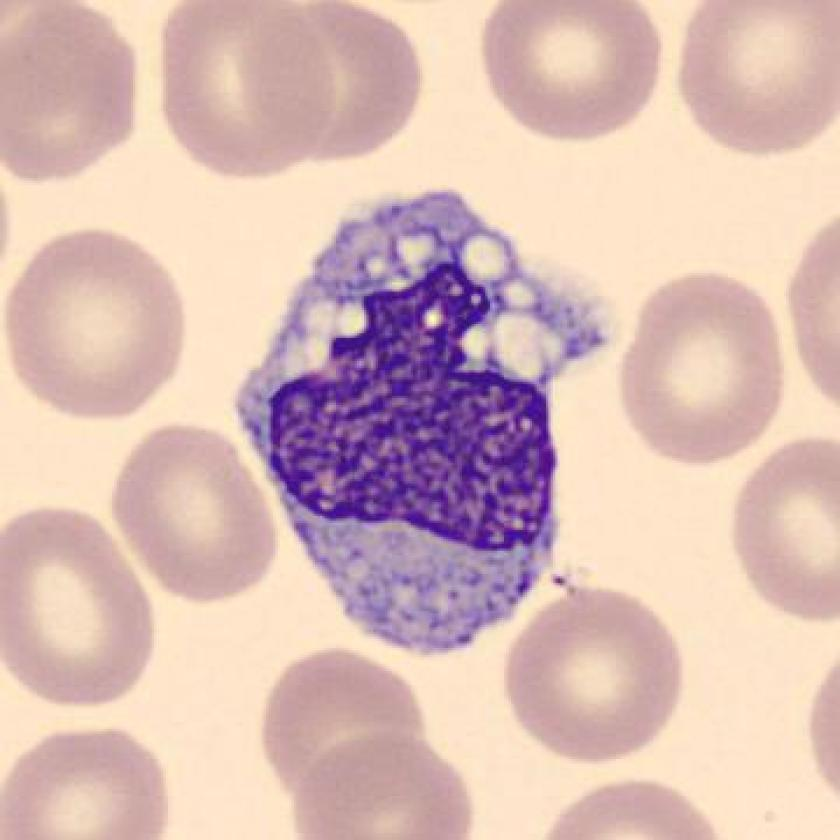monocyte: (213, 163, 631, 679)
